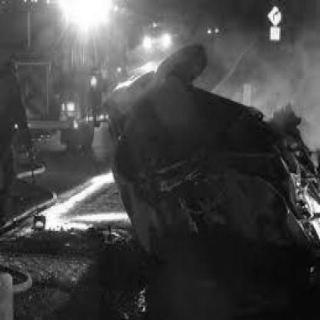other: (43, 0, 117, 39)
